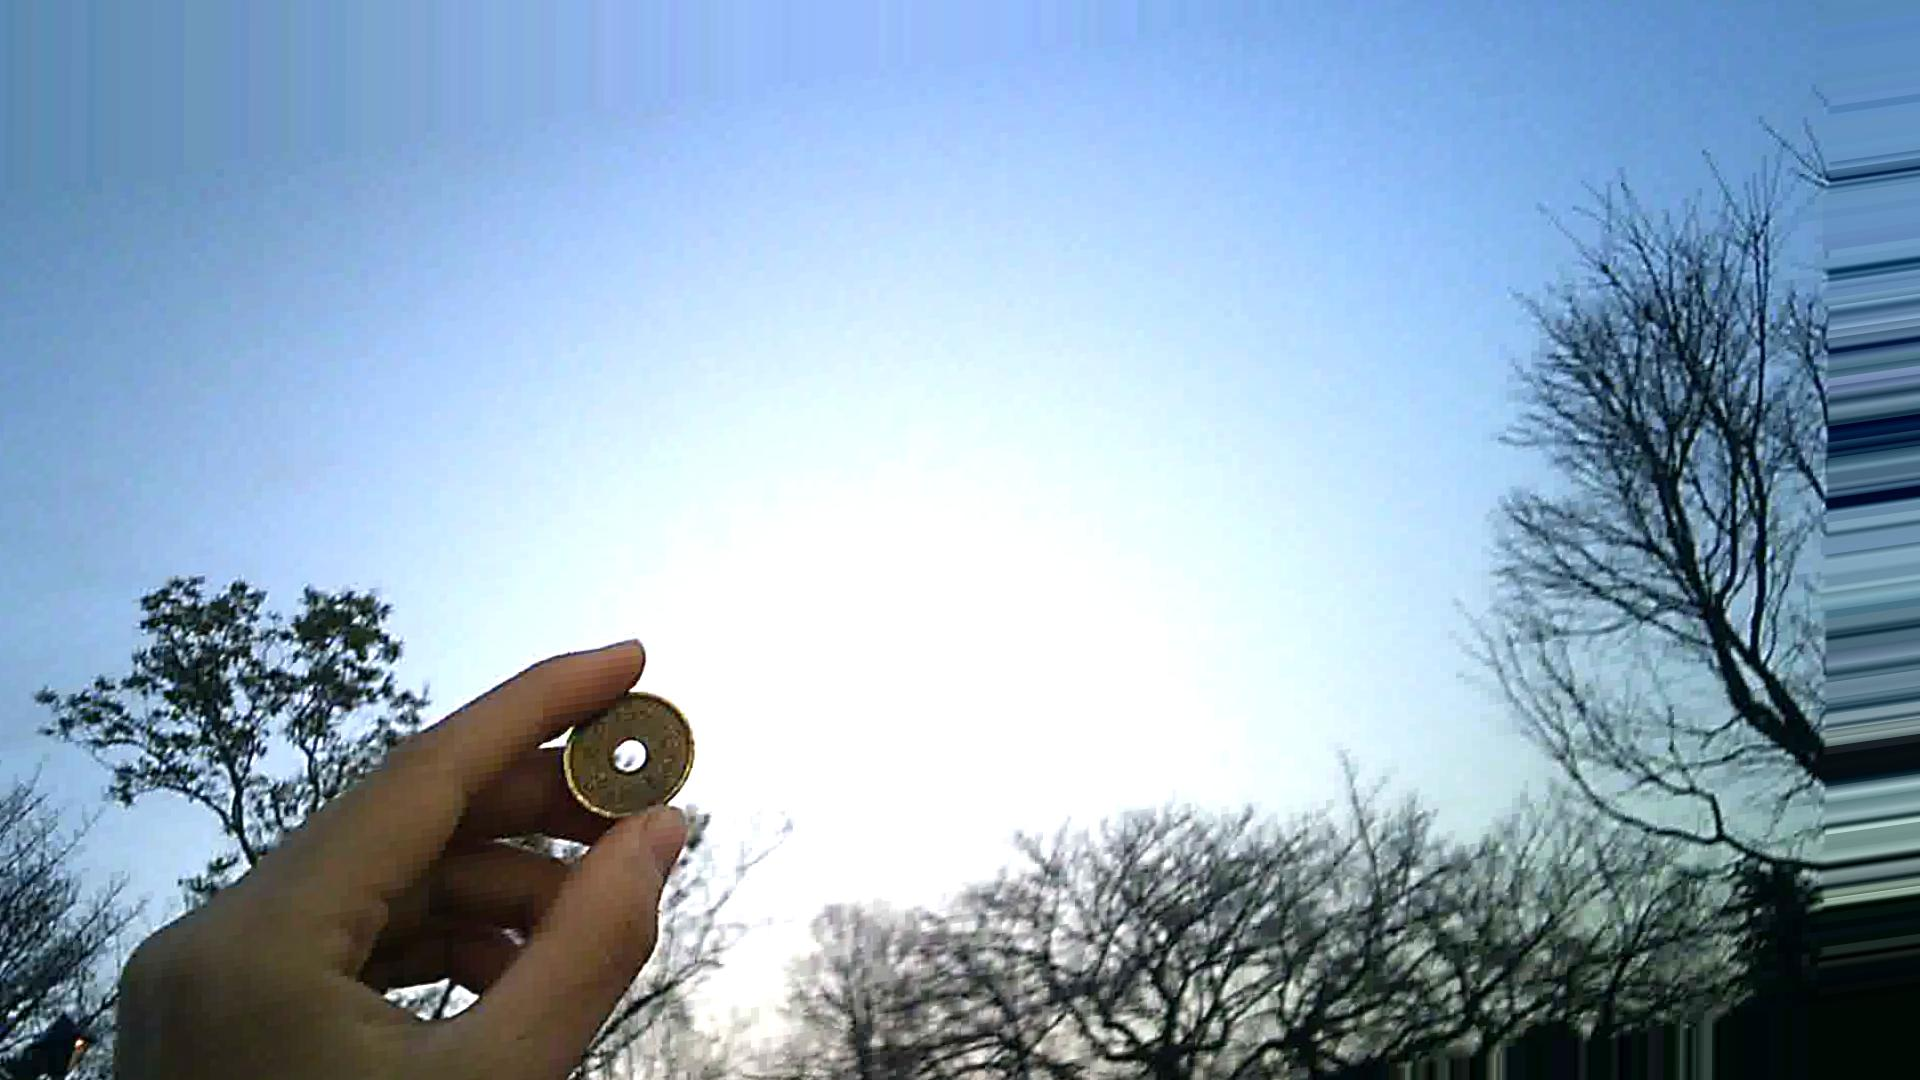5 Yen: (546, 670, 694, 822)
